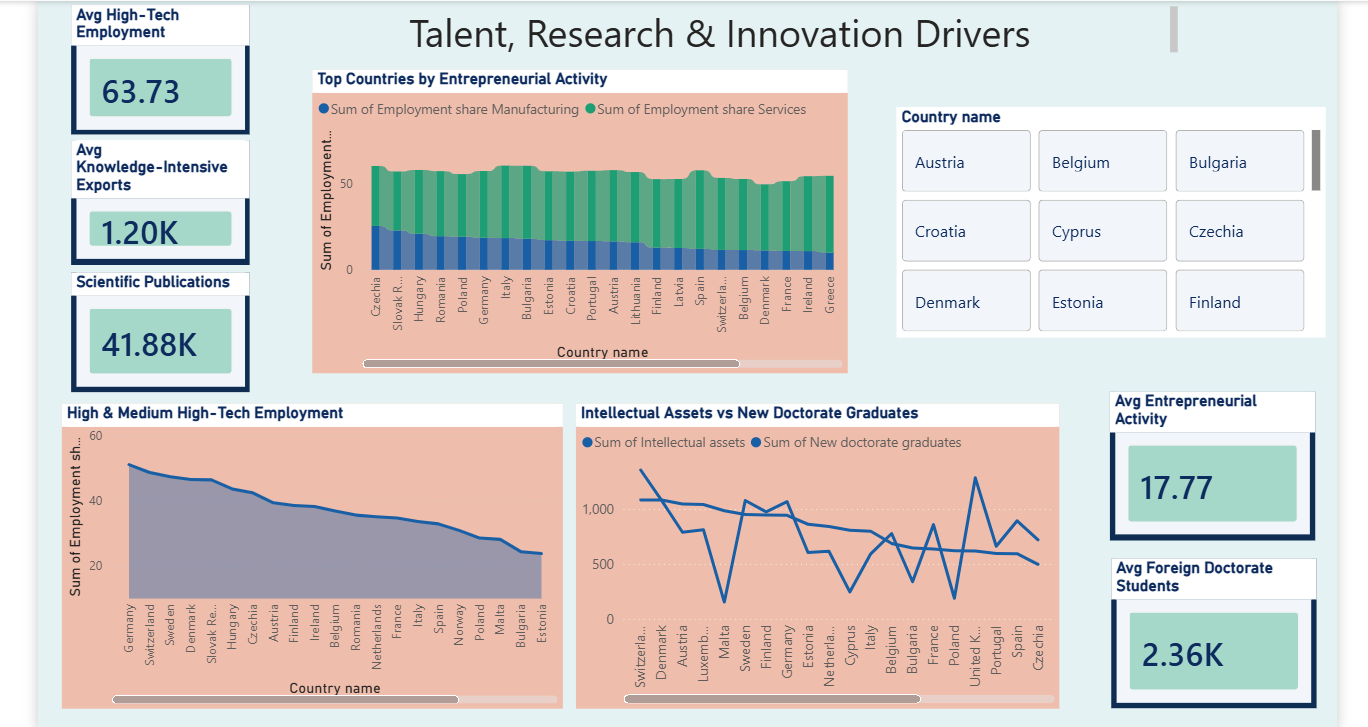

This screenshot's page, from the dashboard's own definition file:
{"tool":"powerbi","page":{"name":"Page 3","canvas":[1280,720],"ordinal":2},"visuals":[{"type":"advancedSlicerVisual","fields":{"Values":["Sheet2.Country name"]},"box":[845.8,104.4,422.9,227.1],"z":0},{"type":"cardVisual","title":"Avg High-Tech Employment","fields":{"Data":["Avg(Sheet2.Employment share High and Medium high-tech)"]},"box":[32.6,3.9,176.2,127.9],"z":1000},{"type":"cardVisual","title":"Scientific Publications","fields":{"Data":["Sum(Sheet2.Scientific publications among the top 10% most cited)"]},"box":[32.6,267.6,176.2,117.5],"z":2000},{"type":"cardVisual","title":"Avg Entrepreneurial Activity","fields":{"Data":["Avg(Sheet2.Total Entrepreneurial Activity)"]},"box":[1056,385.1,202.3,146.2],"z":3000},{"type":"cardVisual","title":"Avg Foreign Doctorate Students","fields":{"Data":["Avg(Sheet2.Foreign doctorate students as a % of all doctorate students)"]},"box":[1057.3,549.5,202.3,147.5],"z":4000},{"type":"cardVisual","title":"Avg Knowledge-Intensive Exports","fields":{"Data":["Avg(Sheet2.Knowledge-intensive services exports)"]},"box":[32.6,137.1,176.2,122.7],"z":5000},{"type":"areaChart","title":"High & Medium High-Tech Employment","fields":{"Category":["Sheet2.Country name"],"Y":["Sum(Sheet2.Employment share High and Medium high-tech)"]},"box":[23.5,396.8,493.4,300.2],"z":6000},{"type":"lineChart","title":"Intellectual Assets vs New Doctorate Graduates","fields":{"Category":["Sheet2.Country name"],"Y":["Sum(Sheet2.Intellectual assets)","Sum(Sheet2.New doctorate graduates)"]},"box":[530,396.8,476.4,300.2],"z":7000},{"type":"ribbonChart","title":"Top Countries by Entrepreneurial Activity","fields":{"Category":["Sheet2.Country name"],"Y":["Sum(Sheet2.Employment share Manufacturing)","Sum(Sheet2.Employment share Services)"]},"box":[270.2,67.9,527.3,298.9],"z":8000},{"type":"textbox","box":[223.2,0,904.6,57.4],"z":9000}]}

Visuals, with their boxes on the page's 1280x720 design canvas (x1, y1, x2, y2). These are canvas units, not pixel positions in the 1368x727 screenshot, which may show the page scaled, cropped or inside an application window:
advancedSlicerVisual - Sheet2.Country name: (846,104,1269,332)
"Avg High-Tech Employment" cardVisual: (33,4,209,132)
"Scientific Publications" cardVisual: (33,268,209,385)
"Avg Entrepreneurial Activity" cardVisual: (1056,385,1258,531)
"Avg Foreign Doctorate Students" cardVisual: (1057,550,1260,697)
"Avg Knowledge-Intensive Exports" cardVisual: (33,137,209,260)
"High & Medium High-Tech Employment" areaChart: (24,397,517,697)
"Intellectual Assets vs New Doctorate Graduates" lineChart: (530,397,1006,697)
"Top Countries by Entrepreneurial Activity" ribbonChart: (270,68,798,367)
textbox: (223,0,1128,57)
